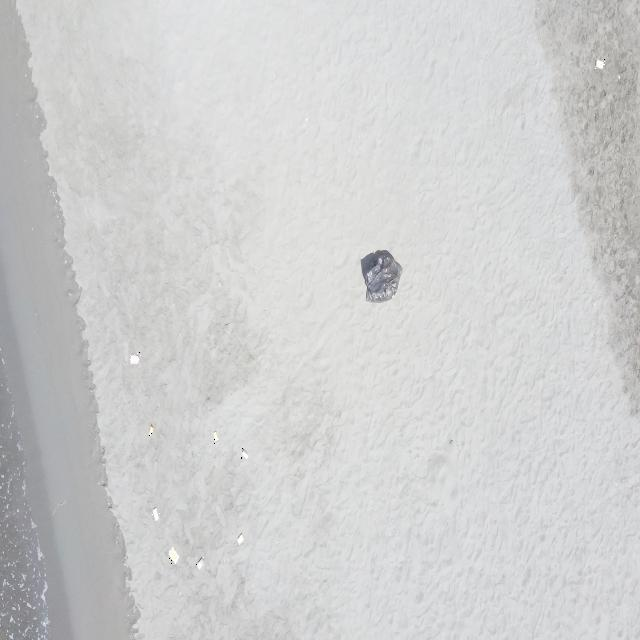Garbage: (360, 249, 400, 300), (168, 547, 178, 564), (128, 352, 139, 363), (195, 556, 203, 568), (151, 507, 158, 520), (595, 57, 603, 68), (240, 447, 247, 459), (236, 533, 243, 544), (212, 431, 218, 443), (148, 424, 154, 435)
